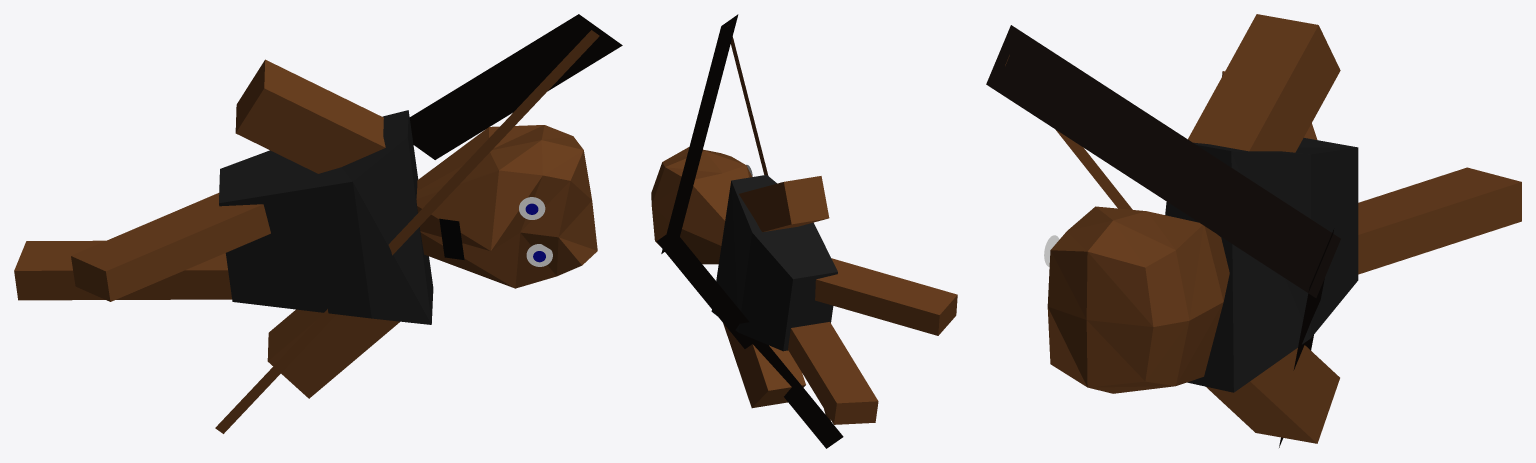
Rendered from archer3d.obj.
3 renders of one model, left to right at view 1: azimuth 30°, elevation 25°; view 2: azimuth 150°, elevation 25°; view 3: azimuth 270°, elevation 25°, orthographic. The views are drawn at different scales.
Visible parts, largest first — view 1: Cube.001, Cube, Cube.004, Cube.003, Plane.002_Plane.003, Cube.005, Cube.002, Plane.003_Plane.004, Plane; view 2: Cube.001, Cube, Cube.004, Cube.005, Plane.001_Plane.002, Cube.003, Plane.002_Plane.003, Cube.002, Plane.003_Plane.004; view 3: Cube, Plane.002_Plane.003, Cube.001, Cube.003, Cube.005, Cube.002, Plane.003_Plane.004, Plane.001_Plane.002.
Part boxes in pixels (box(x1,y1,x2,y2)): Cube.001: box(219, 110, 433, 324); Cube: box(416, 125, 597, 288); Cube.004: box(71, 193, 270, 301); Cube.003: box(235, 59, 385, 173); Plane.002_Plane.003: box(409, 14, 622, 159); Cube.005: box(14, 240, 231, 300); Cube.002: box(267, 309, 399, 398); Plane.003_Plane.004: box(215, 30, 599, 433); Plane: box(439, 218, 464, 259); Cube.001: box(711, 175, 837, 351); Cube: box(651, 147, 752, 264); Cube.004: box(815, 258, 957, 335); Cube.005: box(788, 322, 878, 424); Plane.001_Plane.002: box(656, 229, 843, 448); Cube.003: box(739, 176, 829, 232); Plane.002_Plane.003: box(661, 14, 738, 253); Cube.002: box(723, 323, 805, 408); Plane.003_Plane.004: box(727, 25, 830, 420); Cube: box(1047, 206, 1229, 393); Plane.002_Plane.003: box(986, 25, 1340, 297); Cube.001: box(1165, 138, 1358, 392); Cube.003: box(1188, 14, 1340, 152); Cube.005: box(1358, 167, 1521, 274); Cube.002: box(1206, 345, 1339, 443); Plane.003_Plane.004: box(1005, 55, 1132, 209); Plane.001_Plane.002: box(1279, 228, 1334, 447).
Size of the model in its own units: 5.34 by 5.17 by 4.48.
